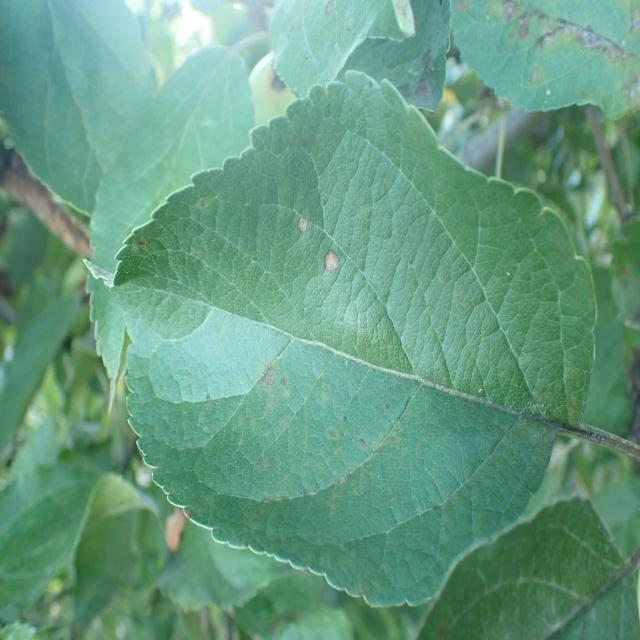frog-eye-leaf-spot: (108, 70, 598, 608)
